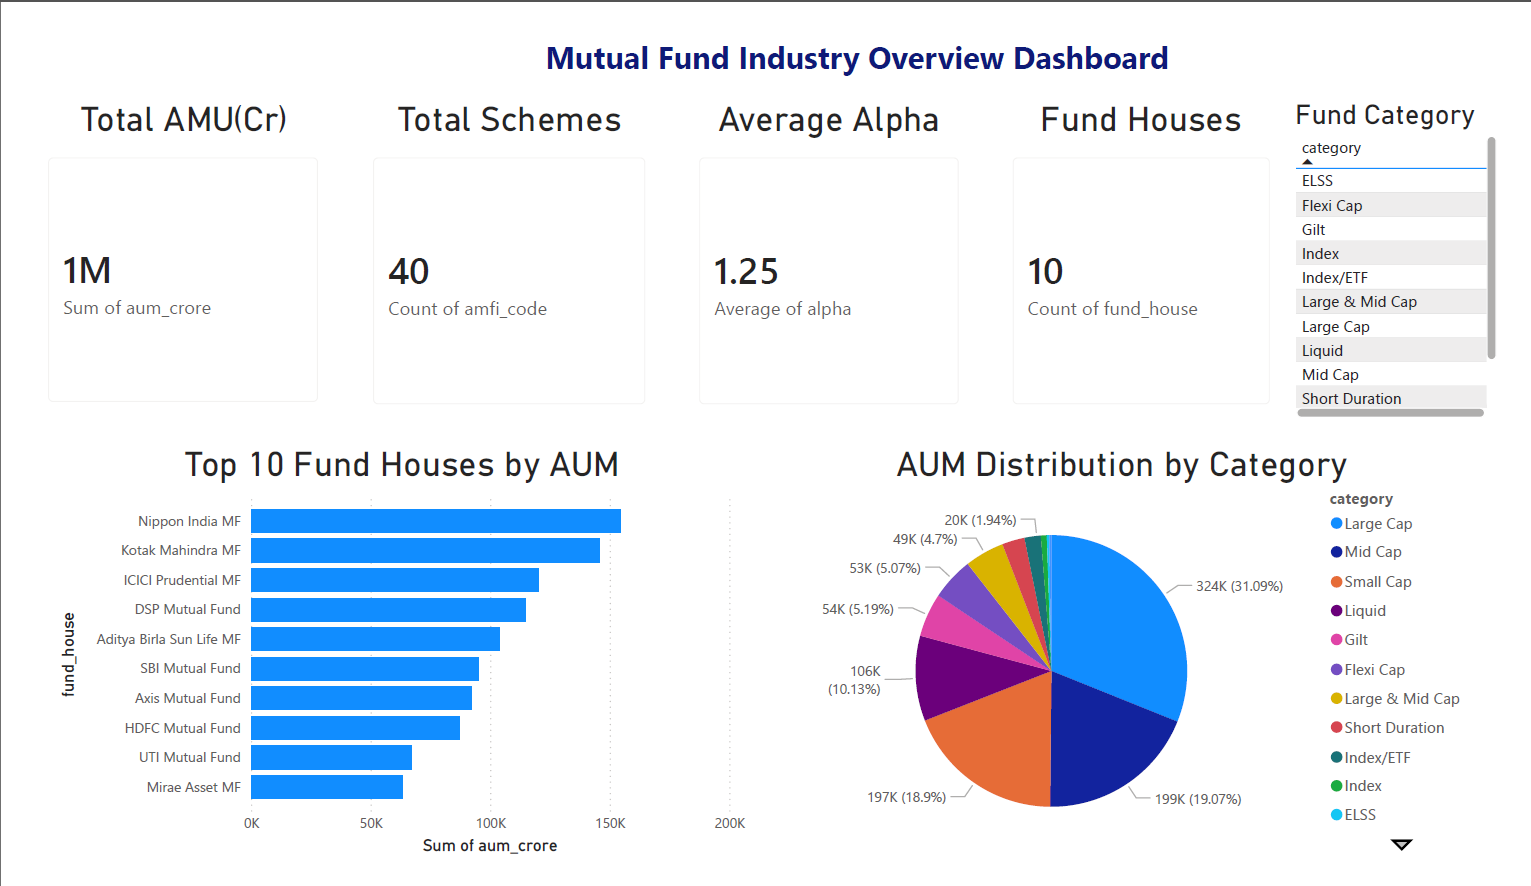

Layout of this report page (visuals, bound fields, positions):
{"tool":"powerbi","page":{"name":"Industry Overview","canvas":[1280,720],"ordinal":0},"visuals":[{"type":"cardVisual","title":"Total AMU(Cr)","fields":{"Data":["Sum(07_scheme_performance.aum_crore)"]},"box":[0,60.5,268.3,279.7],"z":0},{"type":"cardVisual","title":"Total Schemes","fields":{"Data":["Count(07_scheme_performance.amfi_code)"]},"box":[281.6,60.5,270.2,281.6],"z":1000},{"type":"cardVisual","title":"Average Alpha","fields":{"Data":["Avg(07_scheme_performance.alpha)"]},"box":[565,60.5,258.9,281.6],"z":2000},{"type":"cardVisual","title":"Fund Houses","fields":{"Data":["Count(07_scheme_performance.fund_house)"]},"box":[837.2,60.5,257,281.6],"z":3000},{"type":"clusteredBarChart","title":"Top 10 Fund Houses by AUM","fields":{"Y":["Sum(07_scheme_performance.aum_crore)"],"Category":["07_scheme_performance.fund_house"]},"box":[20.8,359.1,606.6,360.9],"z":4000},{"type":"pieChart","title":"AUM Distribution by Category","fields":{"Category":["07_scheme_performance.category"],"Y":["Sum(07_scheme_performance.aum_crore)"]},"box":[640.6,359.1,616.1,360.9],"z":5000},{"type":"tableEx","title":"Fund Category ","fields":{"Values":["07_scheme_performance.category"]},"box":[1094.2,60.5,185.2,281.6],"z":6000},{"type":"textbox","box":[325,0,788,60.5],"z":7000}]}

Visuals, with their boxes in screenshot pixels (x1, y1, x2, y2), scaled from the page's 1280x720 canvas onto the 1531x886 screenshot:
"Total AMU(Cr)" cardVisual: {"x1": 0, "y1": 74, "x2": 321, "y2": 419}
"Total Schemes" cardVisual: {"x1": 337, "y1": 74, "x2": 660, "y2": 421}
"Average Alpha" cardVisual: {"x1": 676, "y1": 74, "x2": 985, "y2": 421}
"Fund Houses" cardVisual: {"x1": 1001, "y1": 74, "x2": 1309, "y2": 421}
"Top 10 Fund Houses by AUM" clusteredBarChart: {"x1": 25, "y1": 442, "x2": 750, "y2": 885}
"AUM Distribution by Category" pieChart: {"x1": 766, "y1": 442, "x2": 1503, "y2": 885}
"Fund Category " tableEx: {"x1": 1309, "y1": 74, "x2": 1530, "y2": 421}
textbox: {"x1": 389, "y1": 0, "x2": 1331, "y2": 74}
